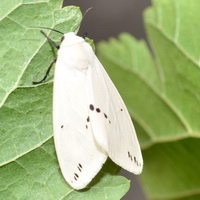insect: (53, 32, 142, 189)
